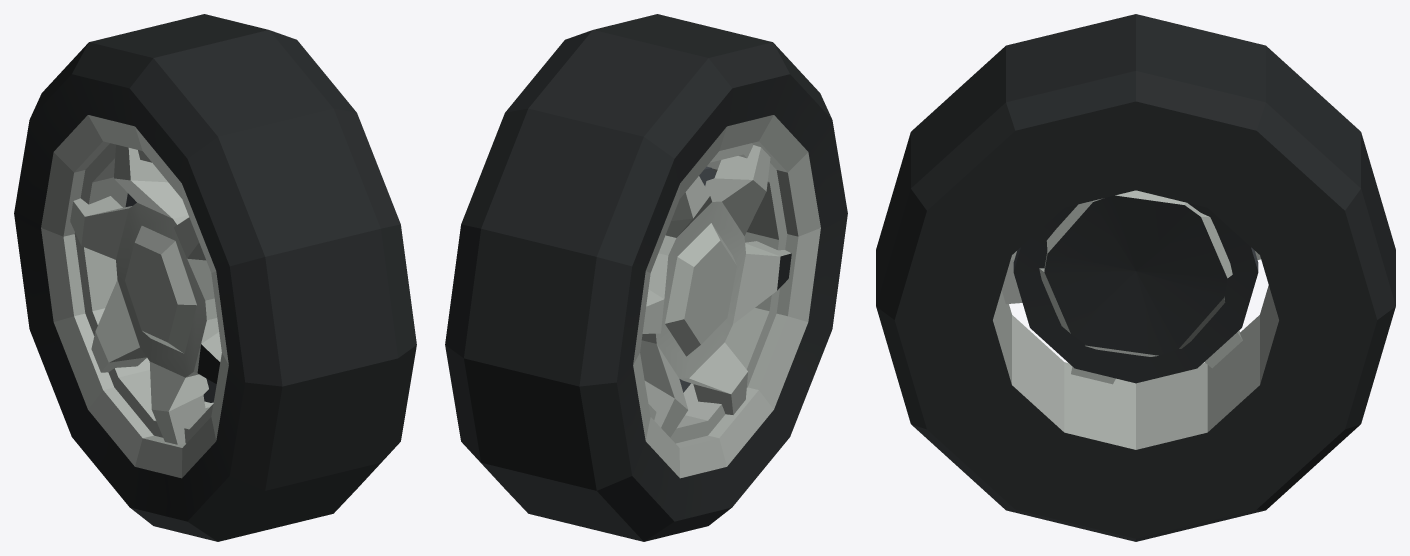
The model's file is SM_Veh_Car_Van_Wheel_rr.obj.
3 renders of one model, left to right at view 1: azimuth 30°, elevation 25°; view 2: azimuth 150°, elevation 25°; view 3: azimuth 270°, elevation 25°, orthographic.
Parts seen in each view (by area): view 1: SM_Veh_Car_Van_Wheel_rr_0; view 2: SM_Veh_Car_Van_Wheel_rr_0; view 3: SM_Veh_Car_Van_Wheel_rr_0.
Boxes of the visible parts, x1,y1,x2,y2 form: SM_Veh_Car_Van_Wheel_rr_0: [14, 14, 416, 541]; SM_Veh_Car_Van_Wheel_rr_0: [445, 14, 847, 541]; SM_Veh_Car_Van_Wheel_rr_0: [876, 14, 1395, 541].
Size of the model in its own units: 0.2978 by 0.7952 by 0.7952.
Materials: 1 (1 with a texture image).
